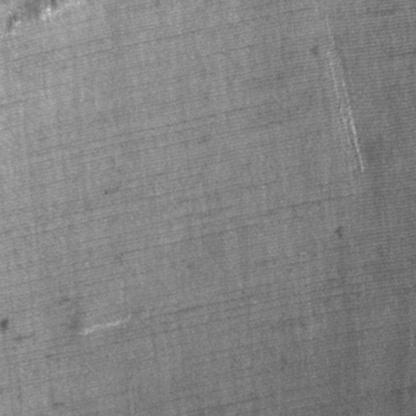thread error: (322, 10, 366, 178), (2, 0, 85, 40), (65, 296, 129, 336)
